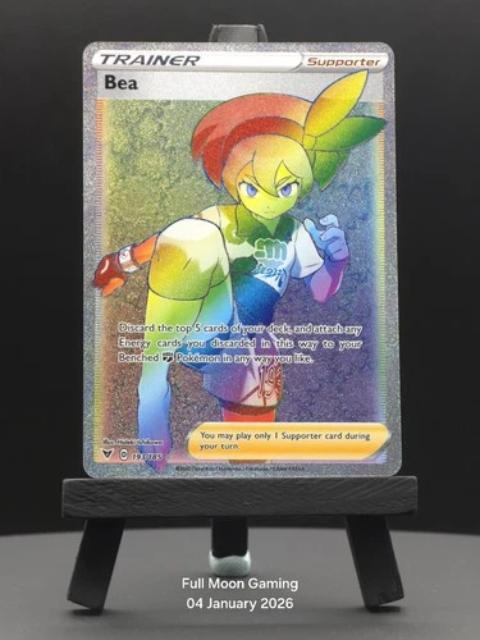Card: (78, 37, 406, 483)
Name: (98, 71, 144, 97)
